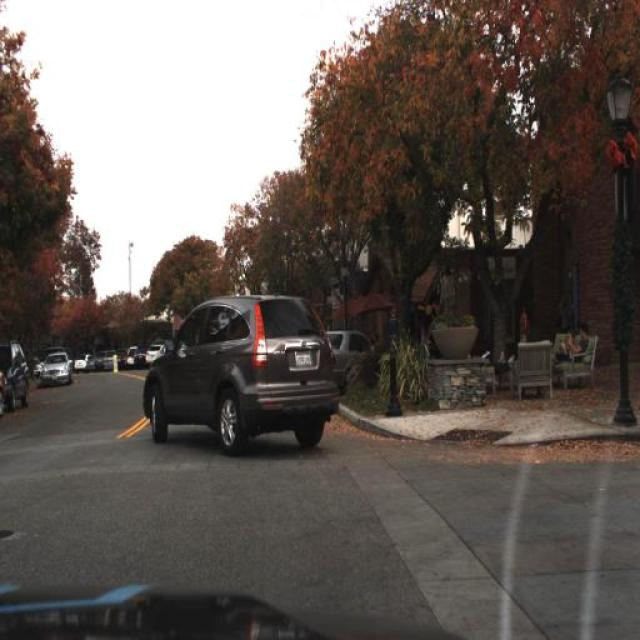car: (138, 274, 344, 460), (320, 328, 376, 380), (1, 342, 30, 410), (39, 350, 72, 386), (74, 353, 88, 373)
trafficLight: (549, 322, 590, 368), (558, 290, 574, 341), (516, 305, 532, 353)
